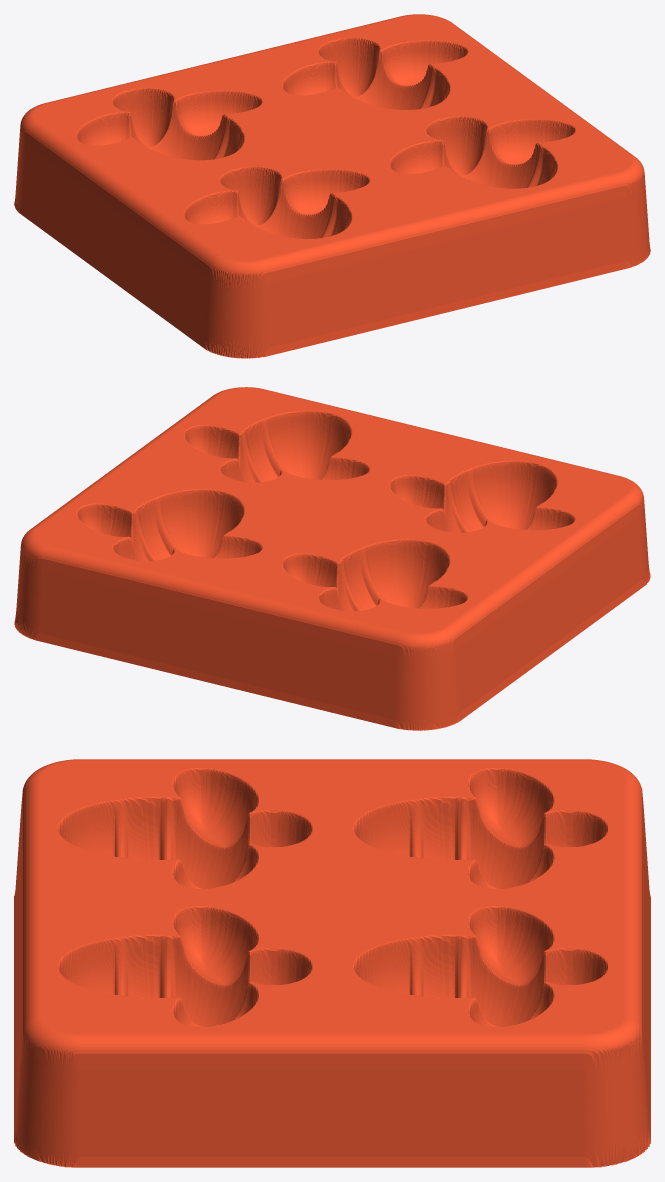
Rendered from mold.glb.
The picture shows the model from 3 angles, top to bottom: view 1: azimuth 30°, elevation 25°; view 2: azimuth 150°, elevation 25°; view 3: azimuth 270°, elevation 25°; orthographic projection. The views are drawn at different scales.
Parts seen in each view (by area): view 1: geometry_0; view 2: geometry_0; view 3: geometry_0.
Boxes of the visible parts, <box> form: geometry_0: <box>14,14,650,358</box>; geometry_0: <box>14,387,650,730</box>; geometry_0: <box>14,759,650,1167</box>.
Bounding box in the file's own units: 0.0942 × 0.0182 × 0.0858.
